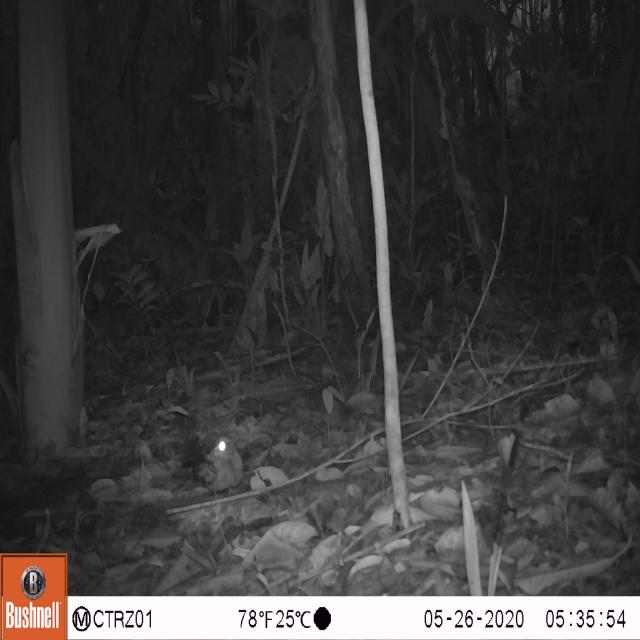Crypturellus: (189, 422, 253, 505)
